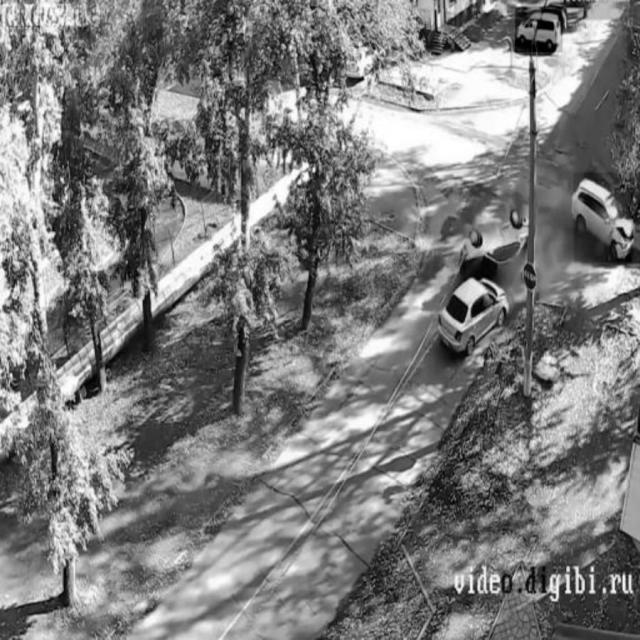accident: (442, 216, 523, 360), (574, 173, 640, 263)
vehicle: (516, 6, 563, 52)
